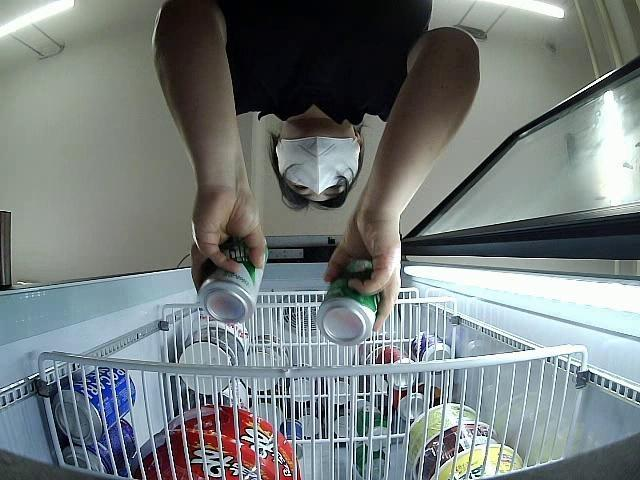12_chilsungCider: (314, 257, 382, 346), (200, 238, 266, 323)
